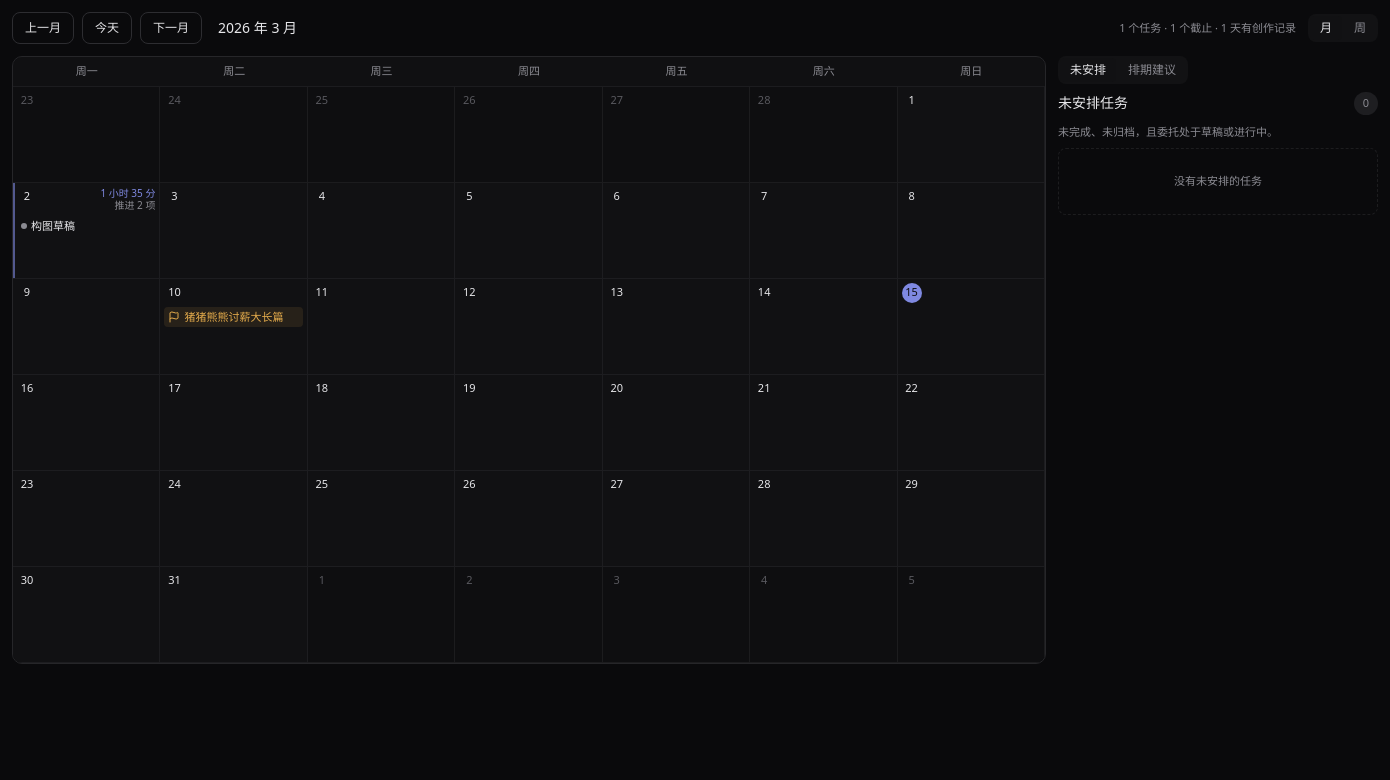
Test: 日历页：跨模块跳转 › 关闭详情面板后回到未安排面板，且不残留选中日期
Expected: the element with test id "calendar-day" showing "2 1 小时 35 分 推进 2 项 构图草稿" is shown, [13,182,160,278]
Step 1. Click the button with test id "calendar-day-select" next to "1 小时 35 分" → (27, 196), box [17,186,37,206]
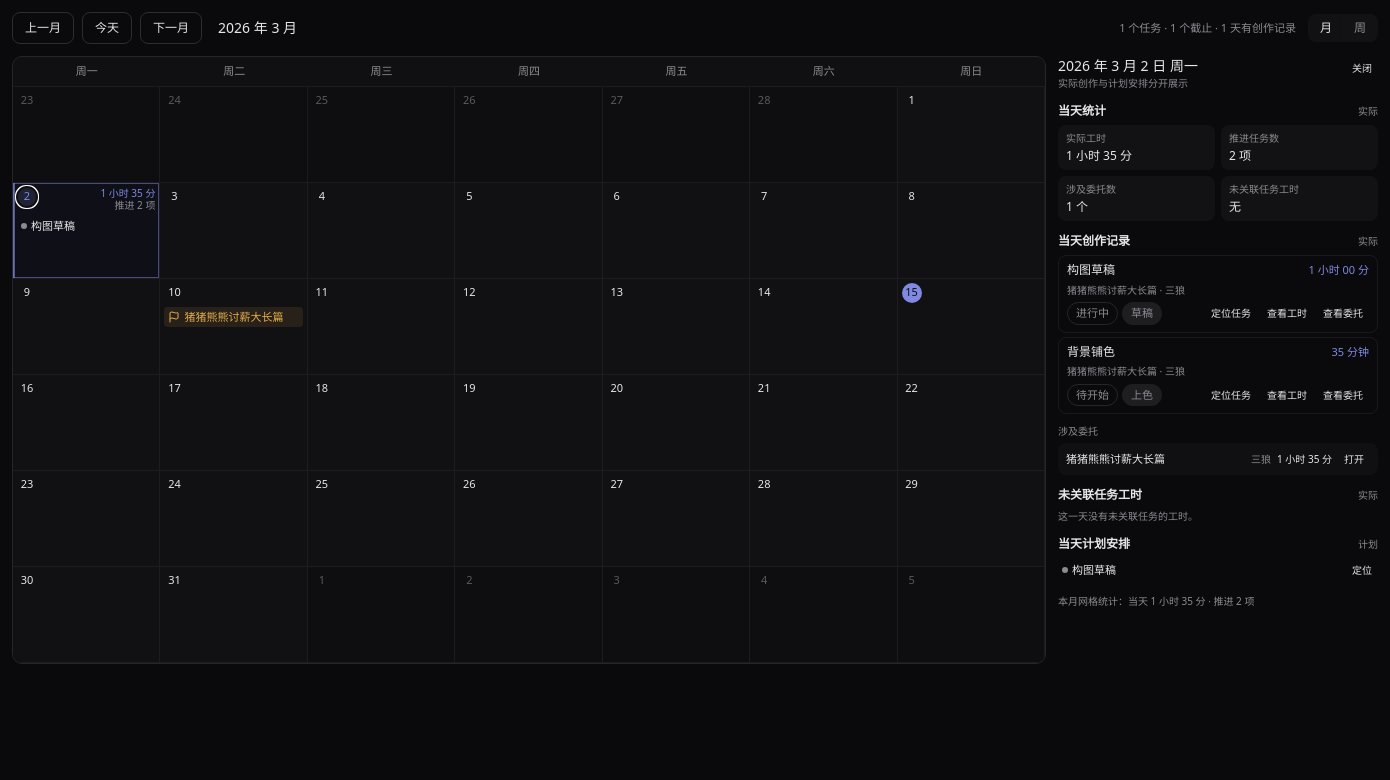
Expected: the element with test id "calendar-day-detail" is shown, [1058,56,1378,664]
Step 2. Click the button "关闭" → (1362, 68), box [1346,56,1378,80]
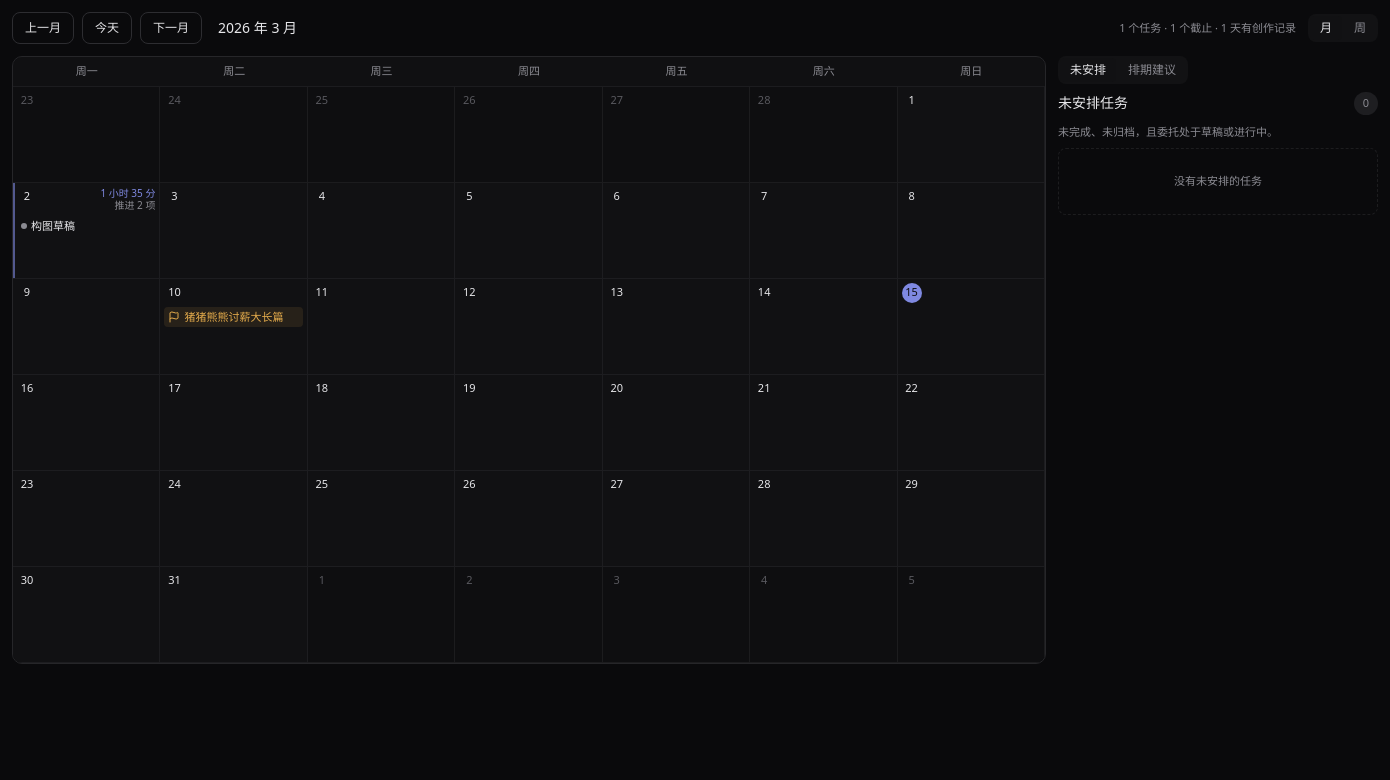
Expected: the element with test id "calendar-day-detail" is gone
Expected: the element with test id "unscheduled-panel" is shown, [1058,92,1378,215]
